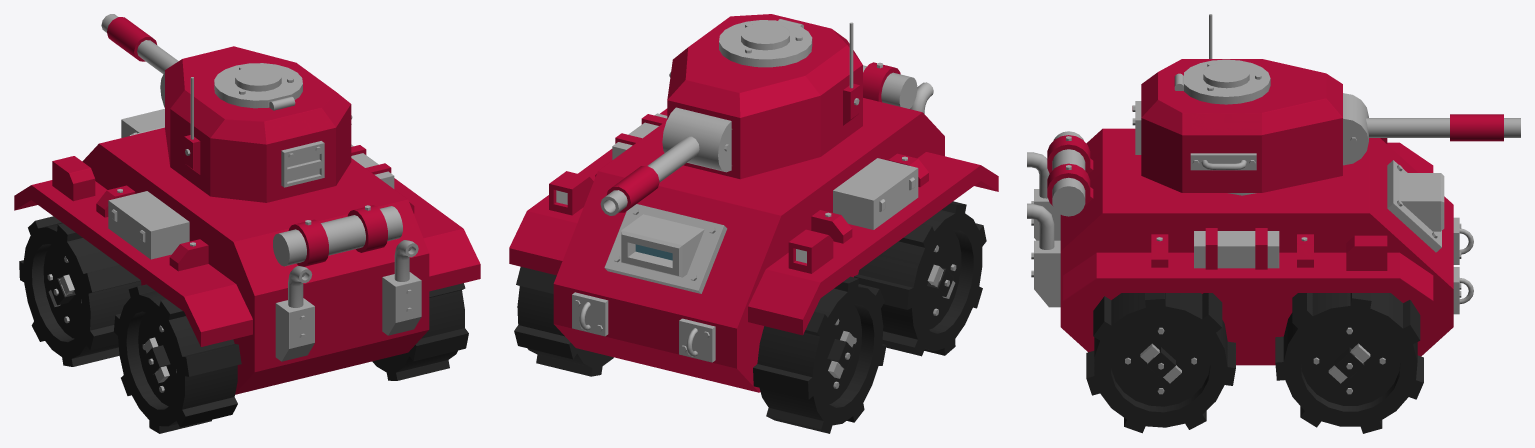
The model's file is СTF_TankFree.fbx.
3 views of the same model, side by side, from view 1: azimuth 30°, elevation 25°; view 2: azimuth 150°, elevation 25°; view 3: azimuth 270°, elevation 25° (orthographic). The views are drawn at different scales.
Visible parts, largest first — view 1: TankFree_Body, TankFree_Tower, TankFree_Wheel_b_left, TankFree_Wheel_f_left, TankFree_Wheel_b_right, TankFree_Canon; view 2: TankFree_Body, TankFree_Tower, TankFree_Wheel_f_left, TankFree_Wheel_b_left, TankFree_Wheel_f_right, TankFree_Canon; view 3: TankFree_Body, TankFree_Tower, TankFree_Wheel_b_right, TankFree_Wheel_f_right, TankFree_Canon.
Boxes of the visible parts, x1,y1,x2,y2 form: TankFree_Body: (14, 108, 480, 394); TankFree_Tower: (160, 46, 352, 202); TankFree_Wheel_b_left: (113, 284, 241, 433); TankFree_Wheel_f_left: (19, 216, 141, 366); TankFree_Wheel_b_right: (372, 283, 468, 380); TankFree_Canon: (101, 14, 178, 74); TankFree_Body: (509, 62, 998, 392); TankFree_Tower: (662, 14, 862, 179); TankFree_Wheel_f_left: (753, 276, 886, 433); TankFree_Wheel_b_left: (854, 201, 986, 356); TankFree_Wheel_f_right: (514, 267, 613, 376); TankFree_Canon: (600, 136, 699, 215); TankFree_Body: (1027, 128, 1473, 365); TankFree_Tower: (1132, 14, 1368, 195); TankFree_Wheel_b_right: (1086, 293, 1235, 433); TankFree_Wheel_f_right: (1275, 293, 1423, 433); TankFree_Canon: (1366, 114, 1520, 141).
Bounding box in the file's own units: 193 × 208 × 294.
2 materials, 2 textured.
